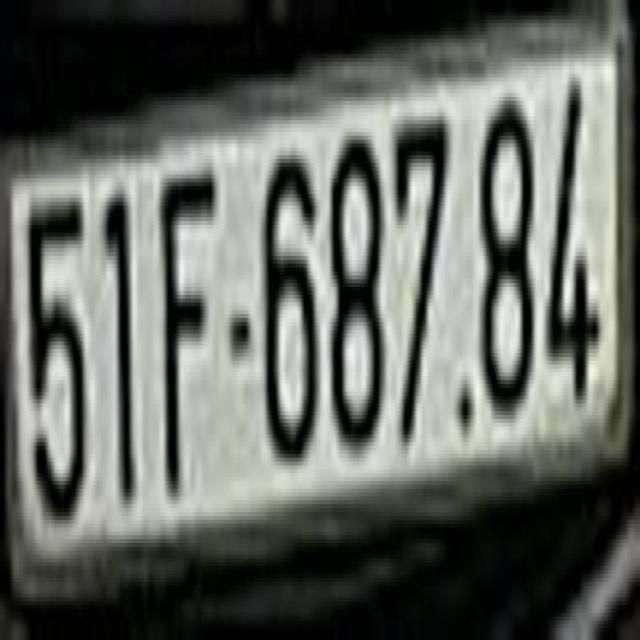1: (96, 148, 144, 528)
4: (544, 35, 608, 423)
5: (26, 171, 90, 544)
6: (260, 120, 320, 477)
7: (392, 81, 450, 438)
8: (480, 62, 542, 419), (330, 97, 384, 473)
F: (156, 116, 216, 508)
